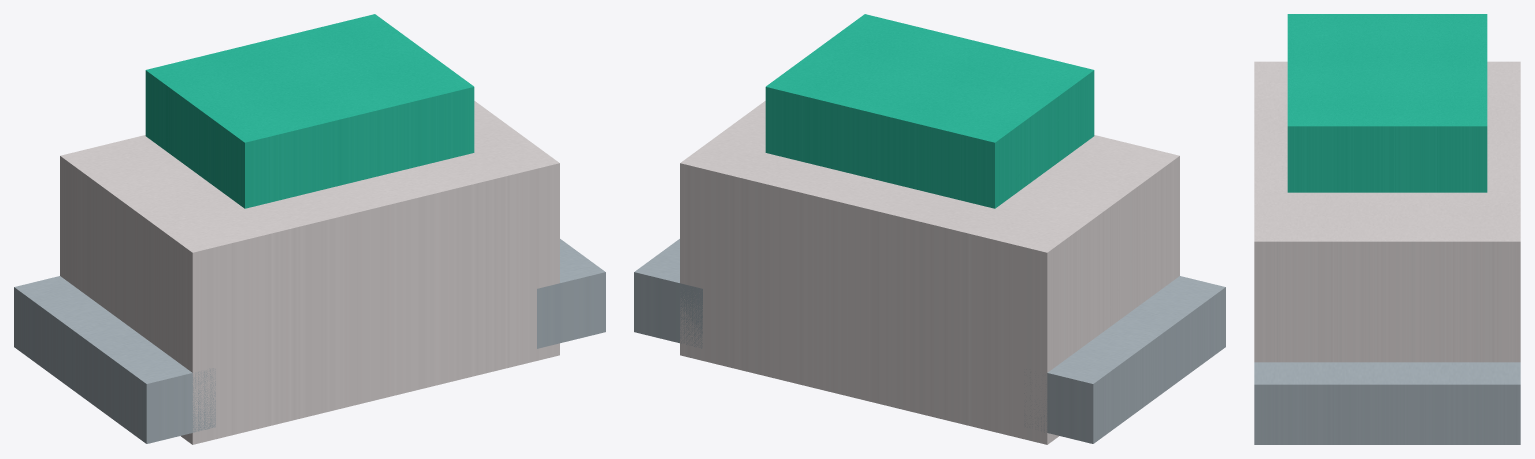
File: 261_L120_LED3.obj
3 renders of one model, left to right at view 1: azimuth 30°, elevation 25°; view 2: azimuth 150°, elevation 25°; view 3: azimuth 270°, elevation 25°, orthographic.
Parts seen in each view (by area): view 1: 261_L120_LED3; view 2: 261_L120_LED3; view 3: 261_L120_LED3.
Part boxes in pixels (x1,y1,x2,y2): 261_L120_LED3: (14, 14, 605, 444); 261_L120_LED3: (634, 14, 1225, 444); 261_L120_LED3: (1254, 14, 1520, 444).
Bounding box in the file's own units: 0.004 × 0.00227 × 0.002.
3 materials, 3 textured.
